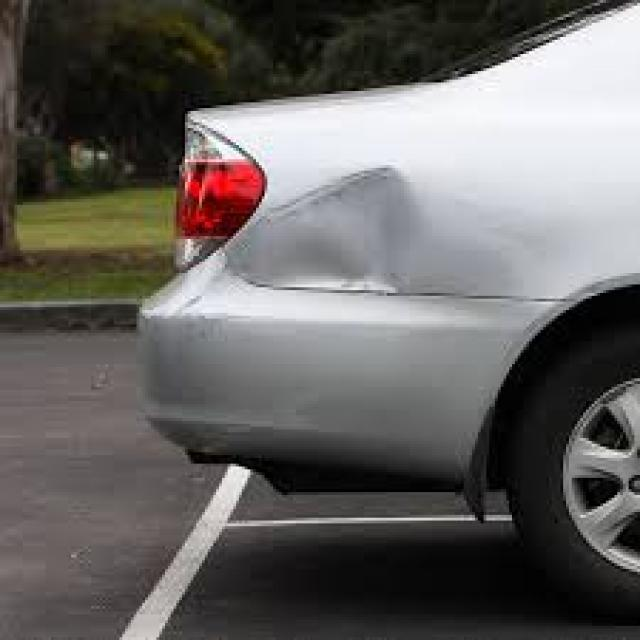Dent: (242, 164, 418, 415)
